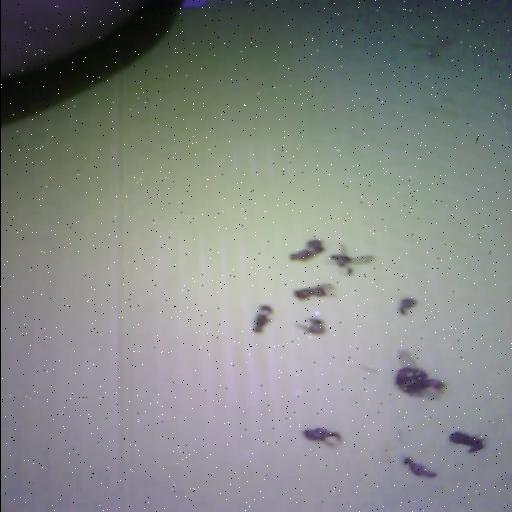Insects: (396, 350, 445, 398), (330, 243, 372, 274), (449, 431, 484, 452), (290, 239, 324, 260), (403, 456, 436, 477), (303, 427, 341, 445), (294, 284, 333, 299), (253, 305, 272, 332), (297, 318, 325, 333), (398, 297, 416, 314)
